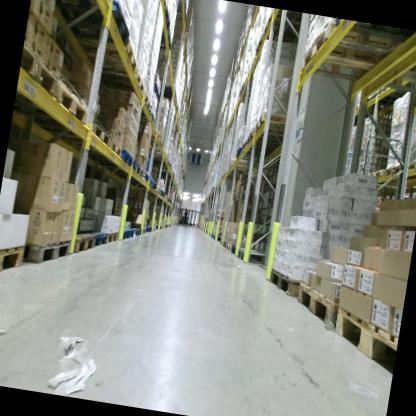pallet: (296, 16, 416, 93), (328, 302, 402, 376), (54, 0, 138, 46), (27, 106, 113, 144), (67, 31, 141, 72), (330, 17, 416, 49), (76, 55, 148, 93), (17, 44, 64, 99), (292, 282, 341, 332), (19, 227, 73, 270), (49, 75, 94, 126), (69, 132, 123, 162), (0, 233, 28, 285), (264, 265, 301, 301), (387, 51, 416, 95), (104, 85, 152, 111), (262, 11, 299, 42), (254, 32, 296, 58), (253, 107, 289, 137), (94, 145, 135, 170), (246, 127, 287, 148), (235, 245, 270, 269), (68, 229, 95, 257), (234, 145, 273, 162), (54, 0, 113, 11), (241, 138, 275, 156), (87, 226, 108, 252), (227, 159, 256, 175), (365, 164, 384, 184), (103, 227, 121, 248), (384, 161, 404, 179), (162, 4, 174, 33), (147, 131, 166, 149), (157, 31, 174, 51), (402, 154, 416, 175), (148, 79, 162, 100), (136, 166, 148, 182), (119, 227, 132, 241), (129, 161, 141, 176), (146, 109, 156, 123), (144, 174, 154, 188), (156, 0, 167, 11), (230, 244, 240, 256), (138, 225, 147, 238), (127, 227, 136, 239), (134, 225, 142, 236), (224, 243, 232, 252), (152, 180, 157, 191), (221, 241, 226, 250), (155, 184, 160, 192), (157, 187, 162, 195), (219, 238, 223, 244)
pallet_truck: (177, 205, 186, 223)
